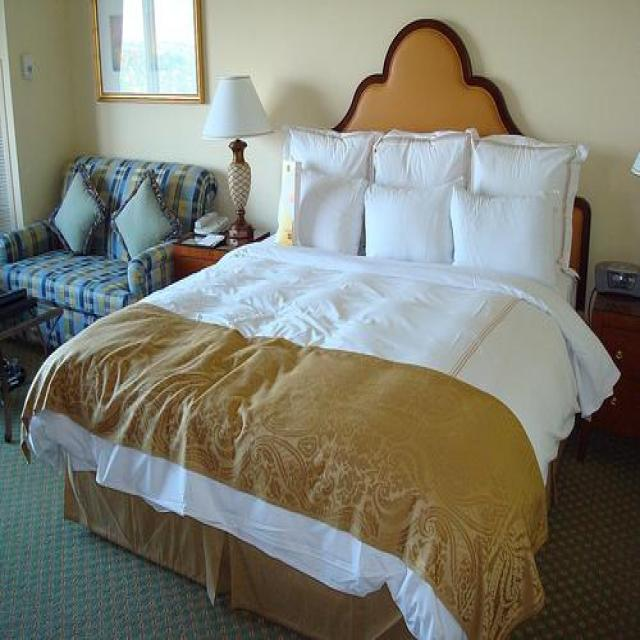bed: (19, 17, 608, 638)
sofa: (0, 152, 218, 355)
